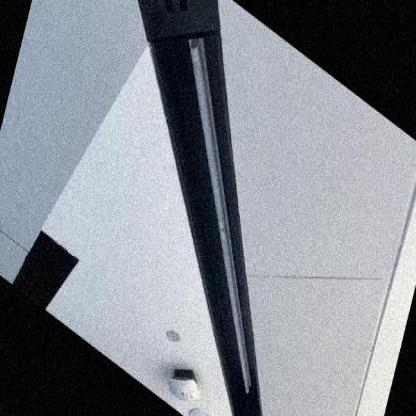light_off: (118, 24, 322, 409)
